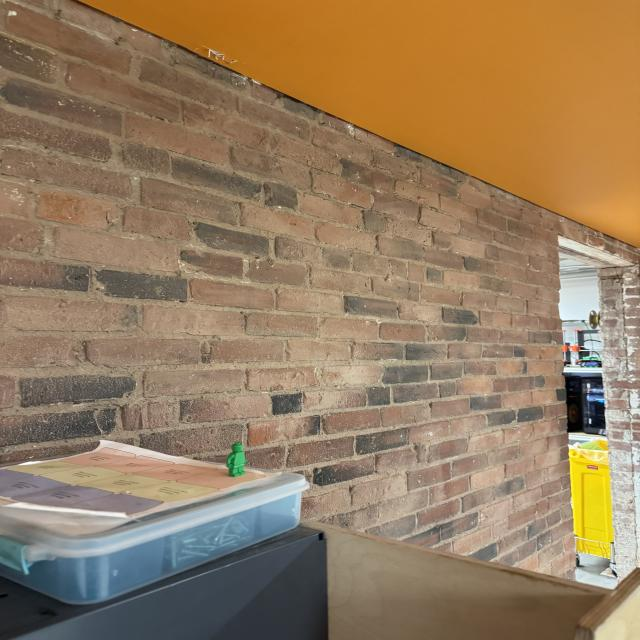Green Mini Figure: (226, 442, 242, 466)
